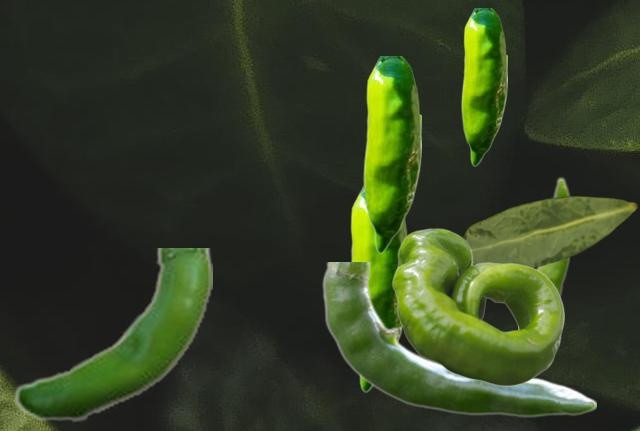green_chili: (322, 262, 595, 416), (13, 248, 211, 422), (392, 228, 563, 385), (348, 183, 408, 391), (363, 56, 420, 252), (461, 8, 506, 165), (537, 176, 571, 296)
